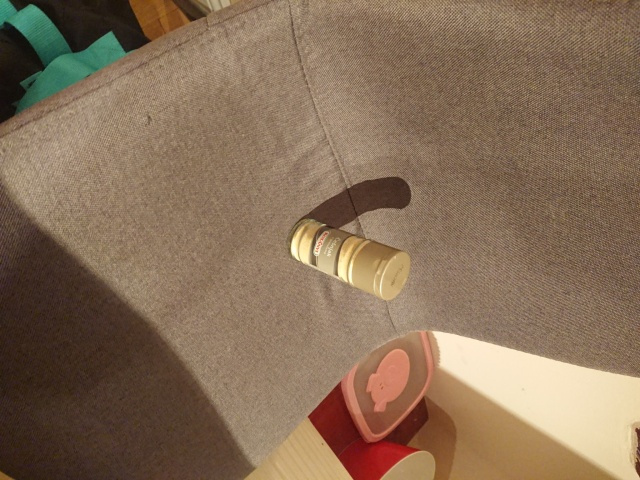Kotanyi Garlic Granules 70g: (284, 215, 414, 303)
